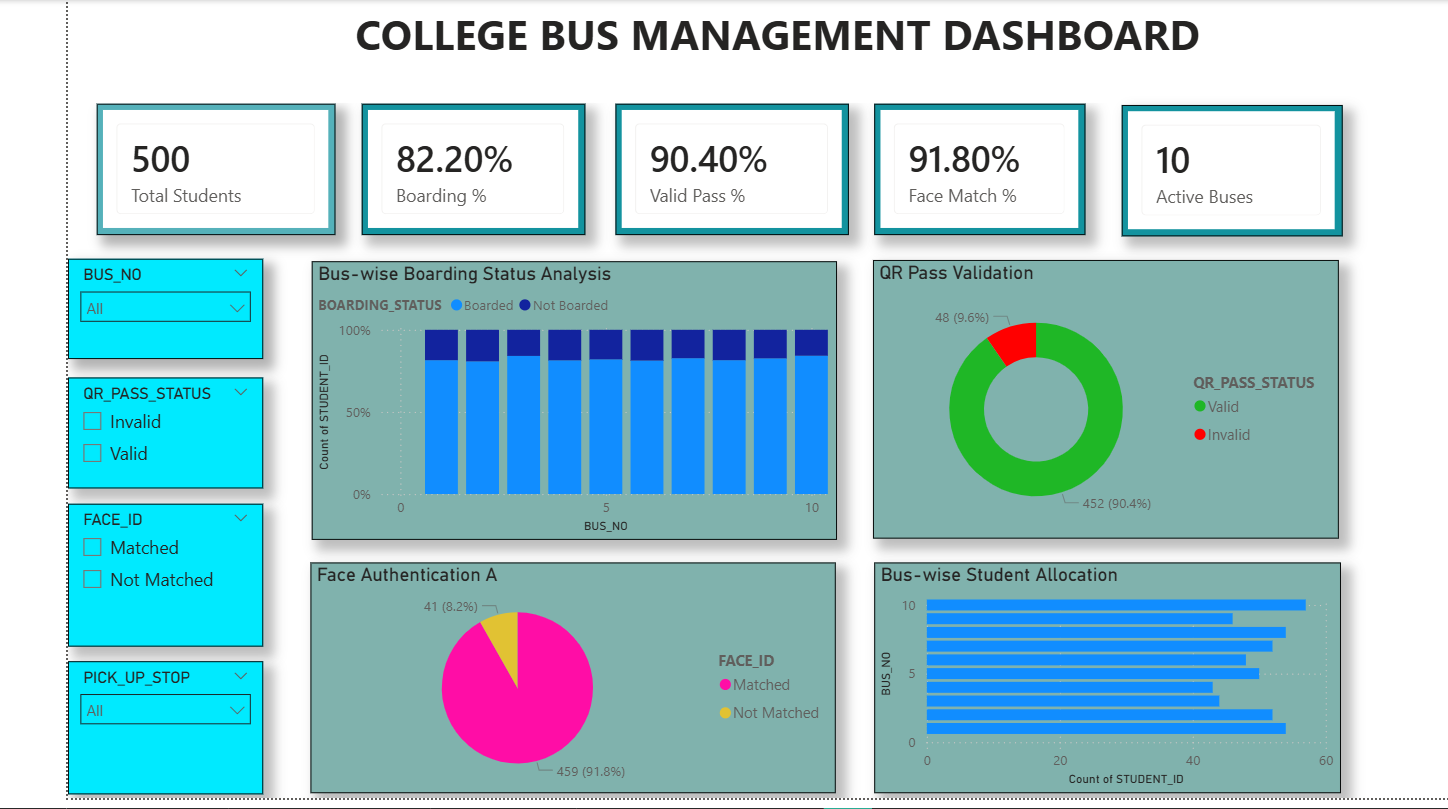

This screenshot's page, from the dashboard's own definition file:
{"tool":"powerbi","page":{"name":"Main dashboard","canvas":[1280,720],"ordinal":0},"visuals":[{"type":"cardVisual","fields":{"Data":["Bus_Details.Total Students"]},"box":[26.1,93.3,215.2,118.2],"z":0},{"type":"cardVisual","fields":{"Data":["Bus_Details.Boarding %"]},"box":[265,93.3,201.5,118.2],"z":1000},{"type":"cardVisual","fields":{"Data":["Bus_Details.Valid Pass %"]},"box":[493.9,93.3,210.2,118.2],"z":2000},{"type":"cardVisual","fields":{"Data":["Bus_Details.Face Match %"]},"box":[726.5,93.3,190.3,118.2],"z":3000},{"type":"hundredPercentStackedColumnChart","title":"Bus-wise Boarding Status Analysis","fields":{"Category":["Student_Details.BUS_NO"],"Series":["Student_Details.BOARDING_STATUS"],"Y":["CountNonNull(Student_Details.STUDENT_ID)"]},"box":[219.6,236,473.4,251.1],"z":4000},{"type":"donutChart","title":"QR Pass Validation ","fields":{"Category":["Student_Details.QR_PASS_STATUS"],"Y":["CountNonNull(Student_Details.STUDENT_ID)"]},"box":[725.9,234.6,419.9,251.1],"z":5000},{"type":"pieChart","title":"Face Authentication A","fields":{"Category":["Student_Details.FACE_ID"],"Y":["CountNonNull(Student_Details.STUDENT_ID)"]},"box":[218.9,507.5,473.9,207.7],"z":6000},{"type":"clusteredBarChart","title":"Bus-wise Student Allocation","fields":{"Category":["Bus_Details.BUS_NO"],"Y":["CountNonNull(Student_Details.STUDENT_ID)"]},"box":[726.5,507.5,420.5,207.7],"z":7000},{"type":"textbox","box":[0,0,1280,92.9],"z":8000},{"type":"slicer","fields":{"Values":["Student_Details.BUS_NO"]},"box":[0,232.9,175.7,90],"z":9000},{"type":"slicer","fields":{"Values":["Student_Details.QR_PASS_STATUS"]},"box":[0,340,175.7,100],"z":10000},{"type":"slicer","fields":{"Values":["Student_Details.FACE_ID"]},"box":[0,454.3,175.7,128.6],"z":11000},{"type":"slicer","fields":{"Values":["Student_Details.PICK_UP_STOP"]},"box":[0,595.7,175.7,120],"z":12000},{"type":"cardVisual","fields":{"Data":["Bus_Details.Active Buses"]},"box":[947.9,93.3,199,118.2],"z":13000}]}

Visuals, with their boxes in screenshot pixels (x1, y1, x2, y2), scaled from the page's 1280x720 canvas onto the 1448x809 screenshot:
cardVisual - Bus_Details.Total Students: (left=30, top=105, right=273, bottom=238)
cardVisual - Bus_Details.Boarding %: (left=300, top=105, right=528, bottom=238)
cardVisual - Bus_Details.Valid Pass %: (left=559, top=105, right=797, bottom=238)
cardVisual - Bus_Details.Face Match %: (left=822, top=105, right=1037, bottom=238)
"Bus-wise Boarding Status Analysis" hundredPercentStackedColumnChart: (left=248, top=265, right=784, bottom=547)
"QR Pass Validation " donutChart: (left=821, top=264, right=1296, bottom=546)
"Face Authentication A" pieChart: (left=248, top=570, right=784, bottom=804)
"Bus-wise Student Allocation" clusteredBarChart: (left=822, top=570, right=1298, bottom=804)
textbox: (left=0, top=0, right=1447, bottom=104)
slicer - Student_Details.BUS_NO: (left=0, top=262, right=199, bottom=363)
slicer - Student_Details.QR_PASS_STATUS: (left=0, top=382, right=199, bottom=494)
slicer - Student_Details.FACE_ID: (left=0, top=510, right=199, bottom=655)
slicer - Student_Details.PICK_UP_STOP: (left=0, top=669, right=199, bottom=804)
cardVisual - Bus_Details.Active Buses: (left=1072, top=105, right=1297, bottom=238)
